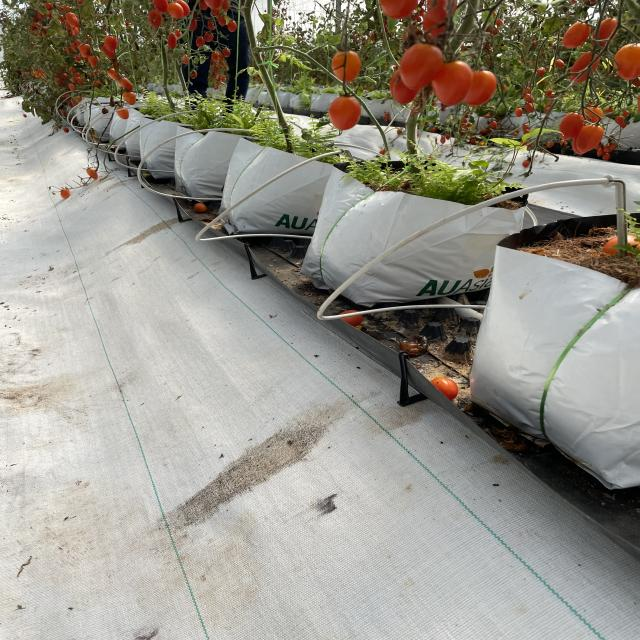Soilbag: (460, 208, 640, 489), (286, 157, 539, 311), (220, 141, 347, 239)
plant: (365, 0, 581, 194), (201, 0, 381, 147)
